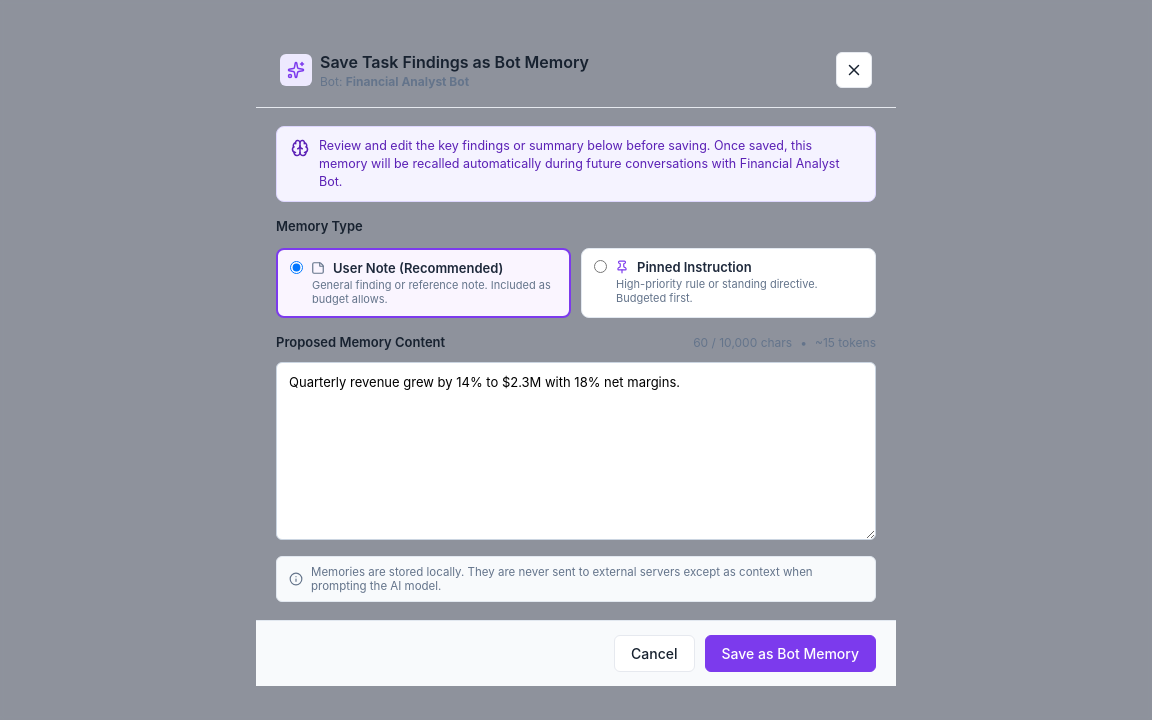
Test case: Renderer: TaskSummaryMemoryProposalModal (Phase 9 Step 9.3 Task Summary Workflow) › 10. displays sanitized error banner when memory creation fails
The image size is (1152, 720).
Step 1. Click the button with test id "btn-save-task-summary" → [790, 654], box [704,635,876,672]
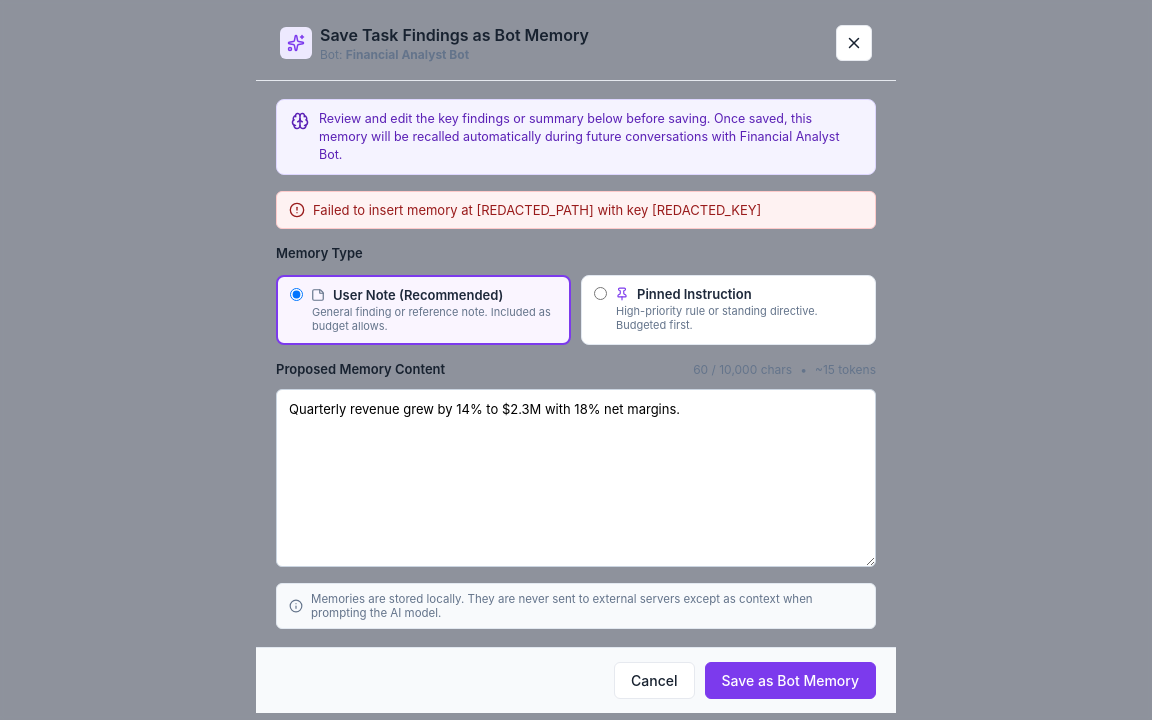
Now the message "Failed to insert memory at [REDACTED_PATH] with key [REDACTED_KEY]" is shown, box [276,191,876,229]
